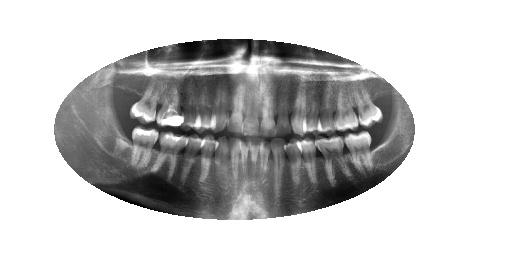i10healthy: (211, 132, 237, 202), (224, 131, 242, 203)
i11healthy: (194, 128, 223, 199)
i12healthy: (177, 133, 209, 193)
i13healthy: (152, 129, 192, 191)
i14healthy: (121, 119, 162, 179)
i2healthy: (338, 128, 378, 180)
i3healthy: (312, 129, 356, 190)
i4healthy: (294, 134, 323, 192)
i5healthy: (281, 137, 304, 194)
i6healthy: (270, 134, 288, 200)
i7healthy: (252, 135, 273, 200)
i8healthy: (245, 136, 264, 202)
i9healthy: (236, 132, 251, 206)
u10healthy: (225, 73, 246, 139)
u11healthy: (205, 73, 233, 134)
u12healthy: (191, 67, 216, 136)
u13healthy: (175, 68, 203, 139)
u14healthy: (155, 70, 186, 130)
u15healthy: (126, 70, 164, 128)
u2healthy: (350, 80, 385, 129)
u3healthy: (329, 82, 360, 136)
u4healthy: (315, 78, 336, 136)
u5healthy: (302, 81, 325, 136)
u6healthy: (288, 78, 313, 136)
u7healthy: (272, 75, 293, 140)
u8healthy: (259, 72, 279, 143)
u9healthy: (240, 73, 265, 140)
